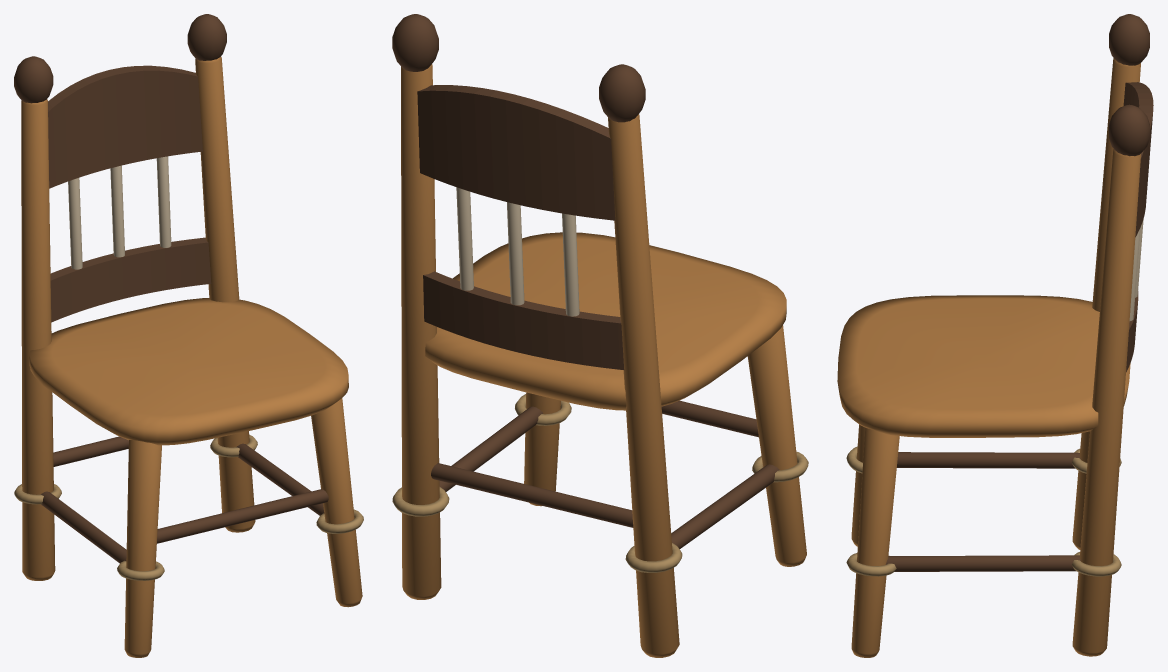
Rendered from deco_seat_wood.fbx.
3 views of the same model, side by side, from view 1: azimuth 30°, elevation 25°; view 2: azimuth 150°, elevation 25°; view 3: azimuth 270°, elevation 25° (orthographic). The views are drawn at different scales.
Parts seen in each view (by area): view 1: Seat_Wood_Seat, Seat_Wood_TopRail, Seat_Wood_PostL, Seat_Wood_PostR, Seat_Wood_MidRail, Seat_Wood_LegFrontL, Seat_Wood_LegFrontR, Seat_Wood_StretcherFront, Seat_Wood_StretcherSideL, Seat_Wood_FinialR, Seat_Wood_FinialL, Seat_Wood_StretcherSideR (+6 smaller); view 2: Seat_Wood_Seat, Seat_Wood_TopRail, Seat_Wood_PostL, Seat_Wood_PostR, Seat_Wood_MidRail, Seat_Wood_LegFrontL, Seat_Wood_StretcherBack, Seat_Wood_LegFrontR, Seat_Wood_StretcherSideL, Seat_Wood_FinialL, Seat_Wood_FinialR, Seat_Wood_StretcherSideR (+8 smaller); view 3: Seat_Wood_Seat, Seat_Wood_PostR, Seat_Wood_LegFrontR, Seat_Wood_PostL, Seat_Wood_StretcherSideR, Seat_Wood_StretcherSideL, Seat_Wood_FinialL, Seat_Wood_FinialR, Seat_Wood_TopRail, Seat_Wood_LegFrontL, Seat_Wood_LashingPostR, Seat_Wood_LashingLegR.
Part boxes in pixels (x1,y1,x2,y2): Seat_Wood_Seat: [29, 298, 348, 445]; Seat_Wood_TopRail: [48, 65, 202, 188]; Seat_Wood_PostL: [21, 99, 55, 580]; Seat_Wood_PostR: [195, 56, 255, 532]; Seat_Wood_MidRail: [50, 237, 211, 322]; Seat_Wood_LegFrontL: [124, 440, 161, 657]; Seat_Wood_LegFrontR: [311, 398, 362, 607]; Seat_Wood_StretcherFront: [157, 489, 328, 543]; Seat_Wood_StretcherSideL: [41, 491, 126, 563]; Seat_Wood_FinialR: [187, 14, 226, 60]; Seat_Wood_FinialL: [14, 56, 53, 103]; Seat_Wood_StretcherSideR: [236, 443, 324, 515]; Seat_Wood_Seat: [425, 232, 786, 410]; Seat_Wood_TopRail: [417, 85, 615, 220]; Seat_Wood_PostL: [608, 114, 679, 657]; Seat_Wood_PostR: [401, 64, 441, 599]; Seat_Wood_MidRail: [423, 271, 624, 369]; Seat_Wood_LegFrontL: [747, 325, 806, 566]; Seat_Wood_StretcherBack: [431, 463, 633, 527]; Seat_Wood_LegFrontR: [524, 392, 560, 506]; Seat_Wood_StretcherSideL: [671, 464, 779, 548]; Seat_Wood_FinialL: [599, 64, 645, 122]; Seat_Wood_FinialR: [392, 14, 438, 71]; Seat_Wood_StretcherSideR: [439, 406, 542, 491]; Seat_Wood_Seat: [837, 295, 1130, 437]; Seat_Wood_PostR: [1072, 149, 1140, 656]; Seat_Wood_LegFrontR: [851, 427, 899, 657]; Seat_Wood_PostL: [1072, 58, 1140, 549]; Seat_Wood_StretcherSideR: [885, 555, 1080, 571]; Seat_Wood_StretcherSideL: [897, 452, 1080, 468]; Seat_Wood_FinialL: [1109, 14, 1149, 65]; Seat_Wood_FinialR: [1109, 104, 1149, 156]; Seat_Wood_TopRail: [1123, 82, 1153, 237]; Seat_Wood_LegFrontL: [851, 424, 865, 546]; Seat_Wood_LashingPostR: [1072, 552, 1121, 576]; Seat_Wood_LashingLegR: [846, 553, 896, 576].
Bounding box in the file's own units: 62.93 × 124 × 66.22.
